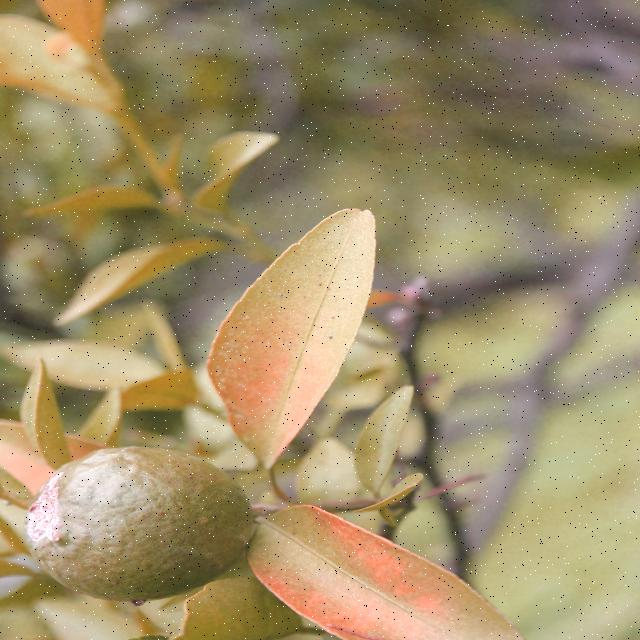blackspot: (288, 289, 322, 315)
